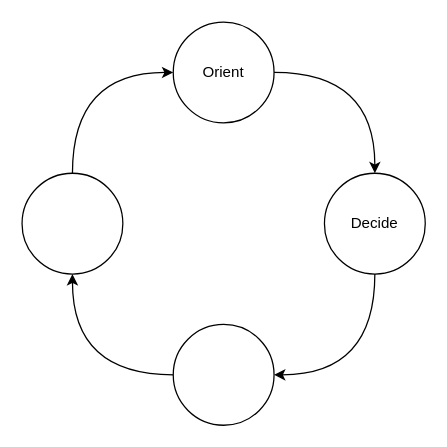
This 447x447 diagram has some shape labels left out. Here are the shapes that lost their labels. From the top down, the centre of each, then its label:
At pixel 72 223: "Observe".
At pixel 223 374: "Act".
